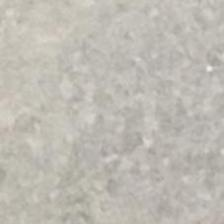Non_Crack: (18, 28, 182, 184)
